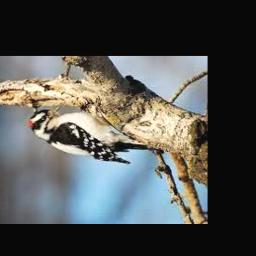Woodpecker: (30, 105, 164, 163)
